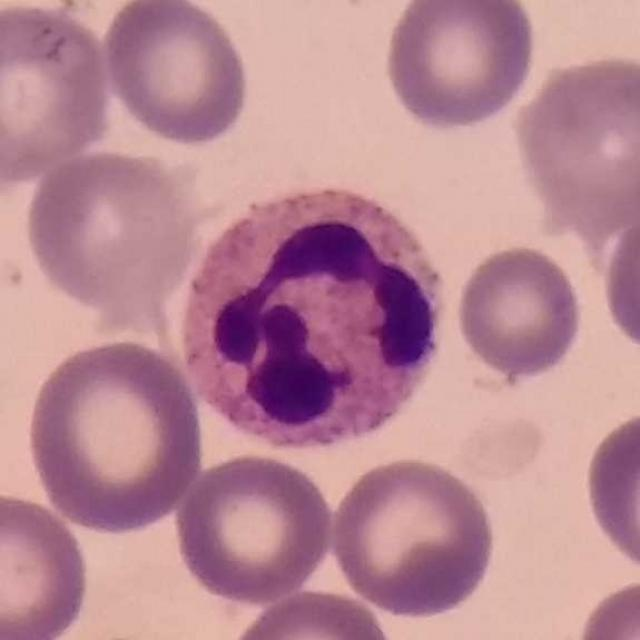Neutrophil: (174, 162, 456, 456)
RBC: (20, 334, 209, 535), (20, 145, 199, 317), (326, 452, 501, 621), (170, 450, 338, 606), (508, 49, 640, 234), (98, 0, 254, 149), (0, 1, 118, 187), (378, 0, 541, 134), (450, 240, 588, 383), (0, 487, 95, 639), (580, 405, 640, 580), (222, 585, 398, 640), (599, 200, 640, 368), (572, 574, 640, 640)
